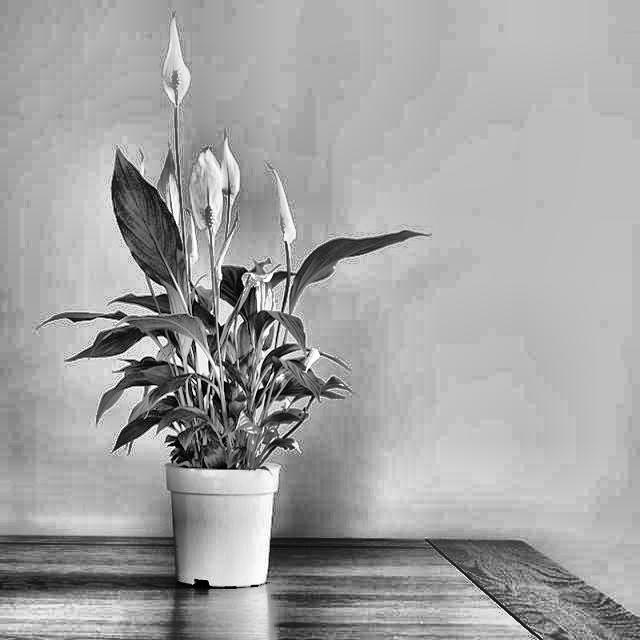plants: (61, 78, 387, 455)
